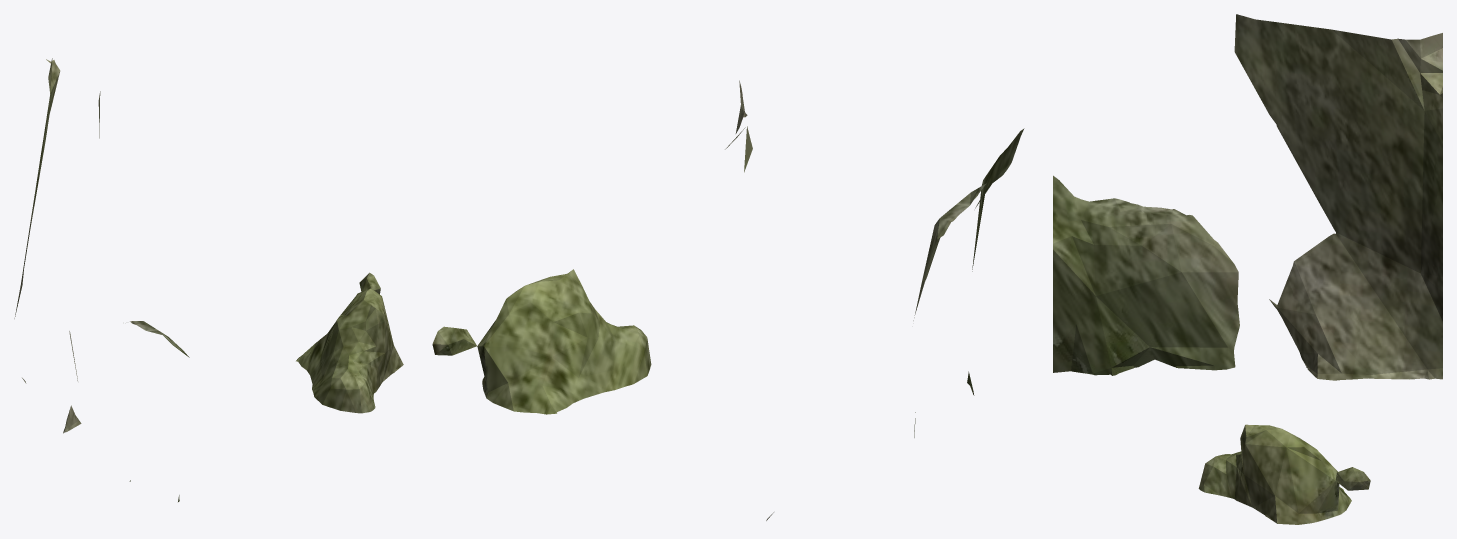
The picture shows the model from 3 angles, left to right: view 1: azimuth 30°, elevation 25°; view 2: azimuth 150°, elevation 25°; view 3: azimuth 270°, elevation 25°; orthographic projection. The views are drawn at different scales.
Size of the model in its own units: 2.92 by 2.95 by 2.95.
Materials: 2 (2 with a texture image).
